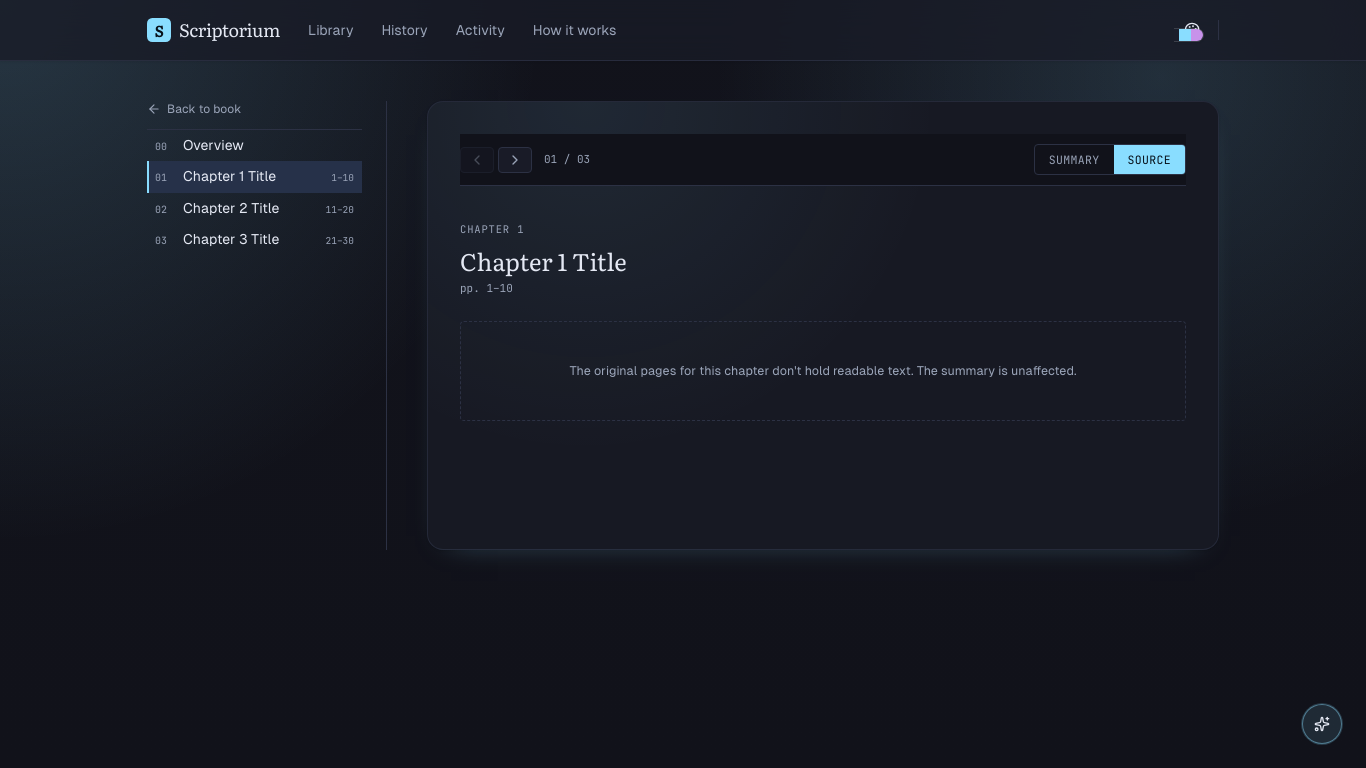
Scenario: available:false shows a quiet note and the summary stays one click away
expect the text "don't hold readable text" is shown: met, box [570,362,1076,378]
Click the button "Summary" at (1074, 160), box [1035,145,1114,174]
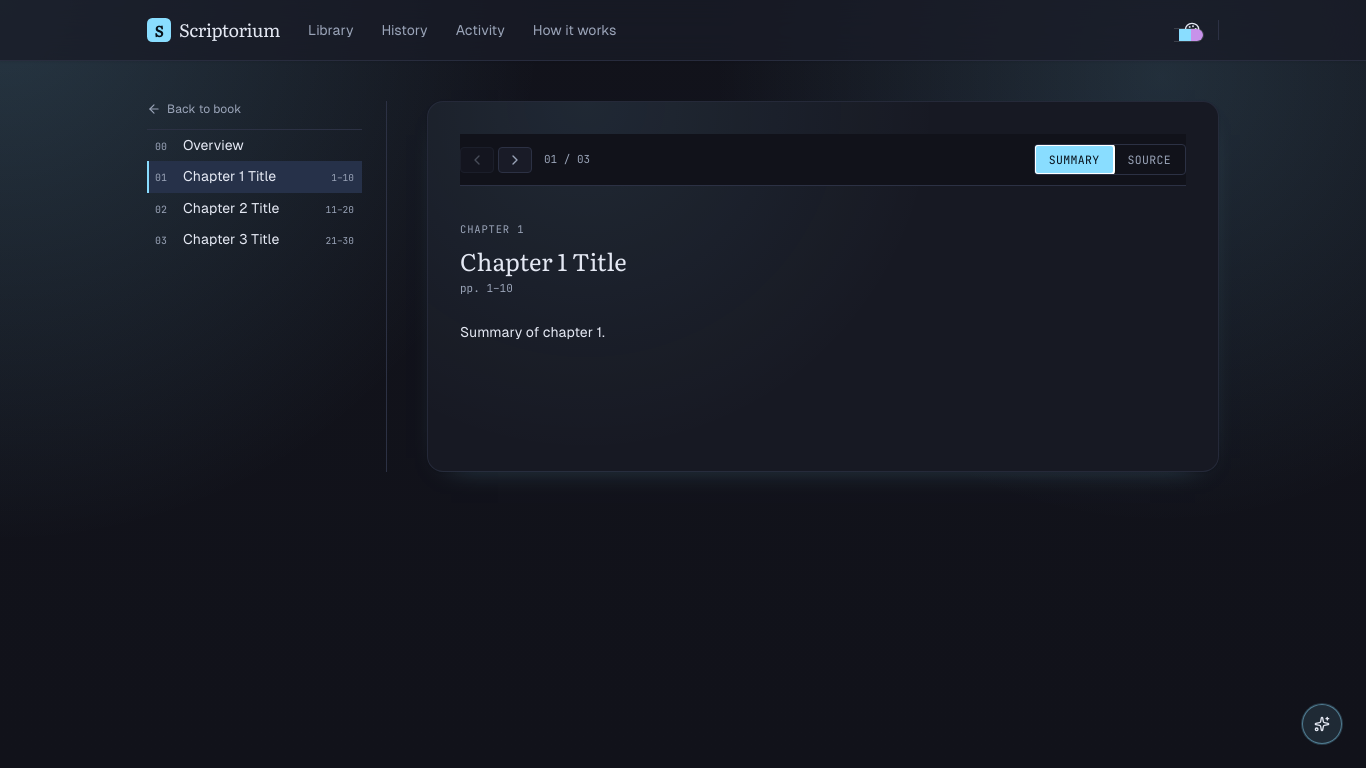
expect the text "Summary of chapter 1." is shown: met, box [460,324,605,340]
